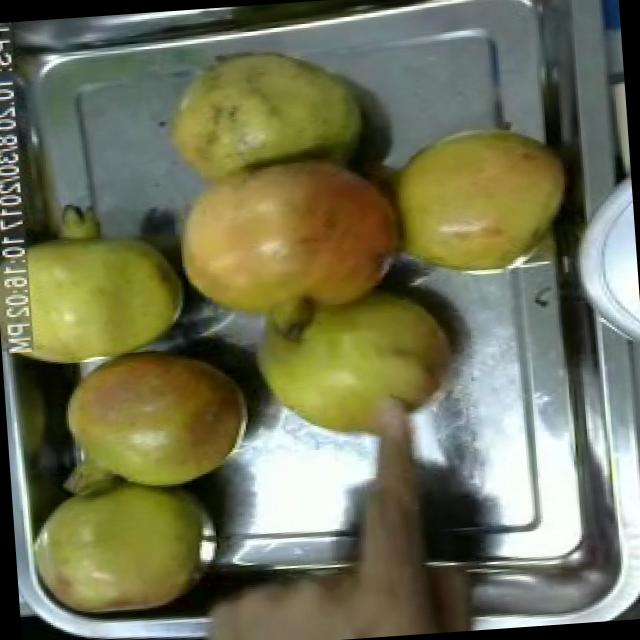fruit: (154, 139, 426, 353), (0, 172, 204, 380), (368, 102, 586, 294), (236, 276, 474, 450), (15, 461, 237, 635), (46, 336, 270, 505)
